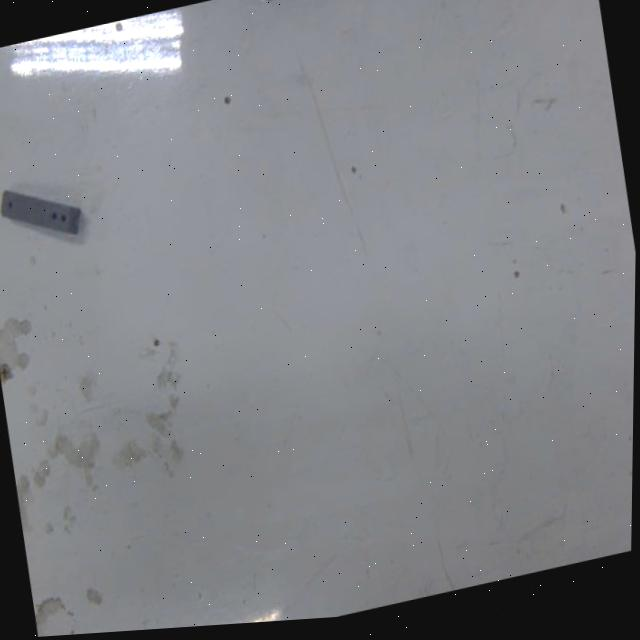grey: (0, 174, 88, 258)
head: (6, 196, 18, 214)
